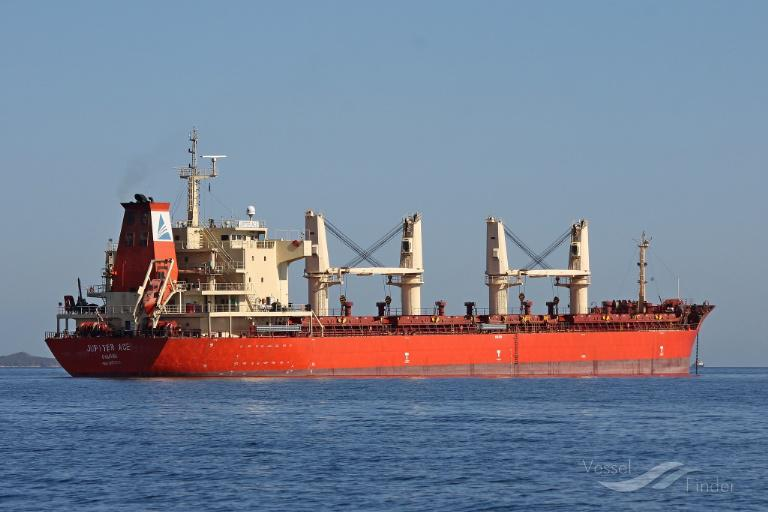OCR: (72, 339, 132, 369)
